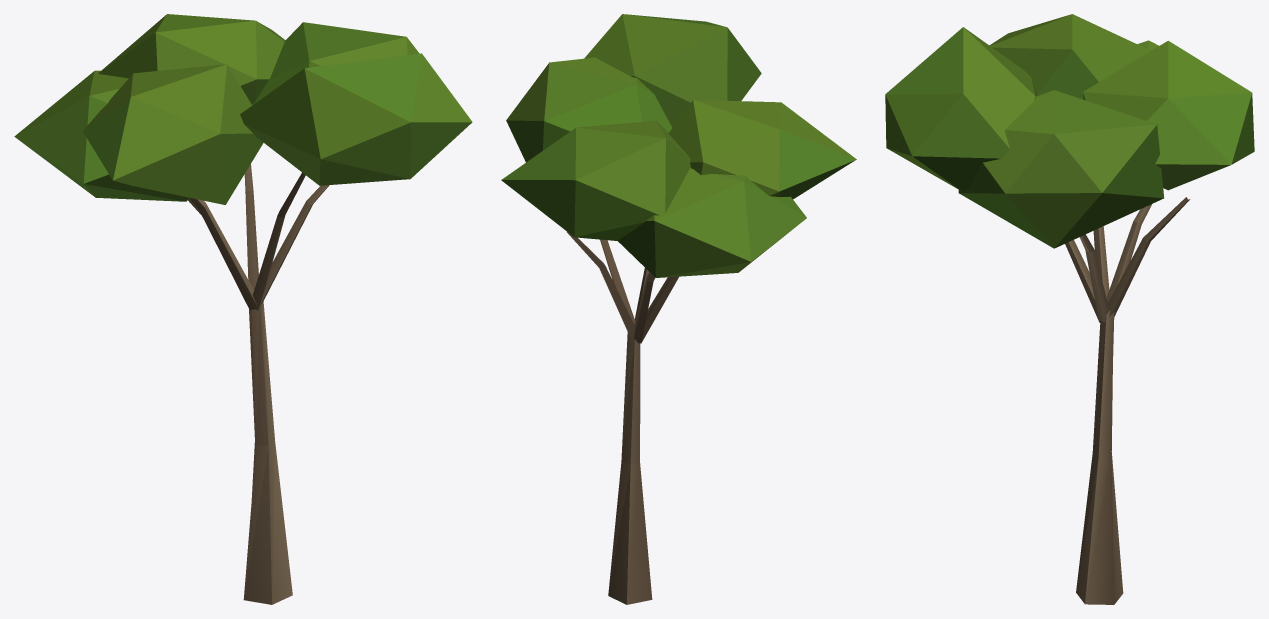
Rendered from canopy_tall_far.glb.
The picture shows the model from 3 angles, left to right: view 1: azimuth 30°, elevation 25°; view 2: azimuth 150°, elevation 25°; view 3: azimuth 270°, elevation 25°; orthographic projection. The views are drawn at different scales.
Parts seen in each view (by area): view 1: canopy_tall_far_leafy, canopy_tall_far_solid; view 2: canopy_tall_far_leafy, canopy_tall_far_solid; view 3: canopy_tall_far_leafy, canopy_tall_far_solid.
Part boxes in pixels (x1,y1,x2,y2): canopy_tall_far_leafy: [14, 14, 472, 204]; canopy_tall_far_solid: [188, 164, 329, 604]; canopy_tall_far_leafy: [501, 14, 856, 277]; canopy_tall_far_solid: [567, 232, 678, 604]; canopy_tall_far_leafy: [885, 14, 1254, 248]; canopy_tall_far_solid: [1065, 197, 1190, 604].
Size of the model in its own units: 12.78 by 20.99 by 12.69.
